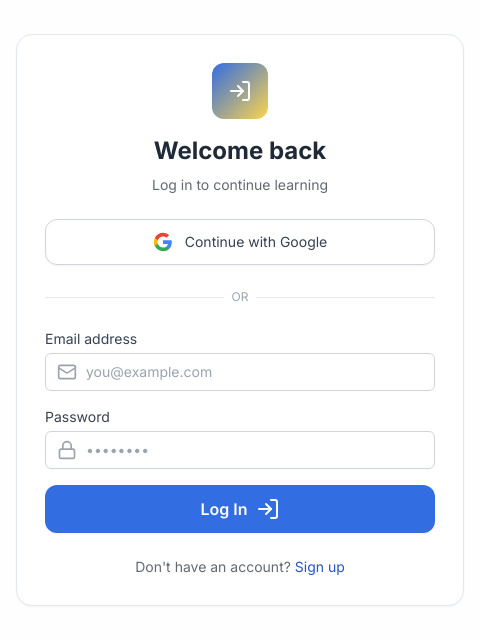
Test: Login.tsx › shows inline error below password and does not toast on invalid credentials
Type "a@b.com" into the field labelled "Email address" at (240, 372), box [45, 353, 435, 391]
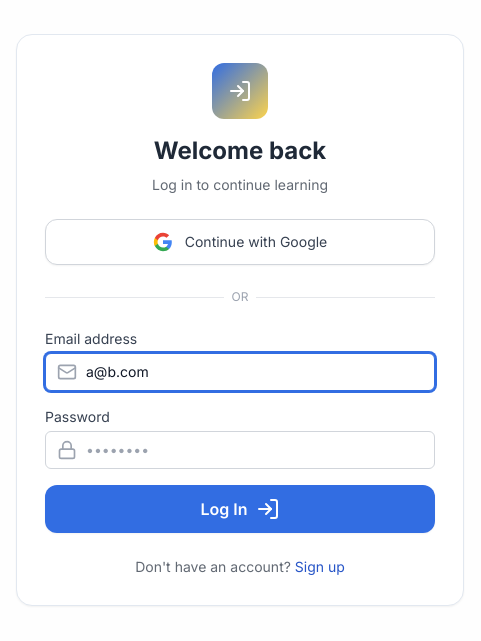
Type "Secure1!" into the password field labelled "Password" at (240, 450), box [45, 431, 435, 469]
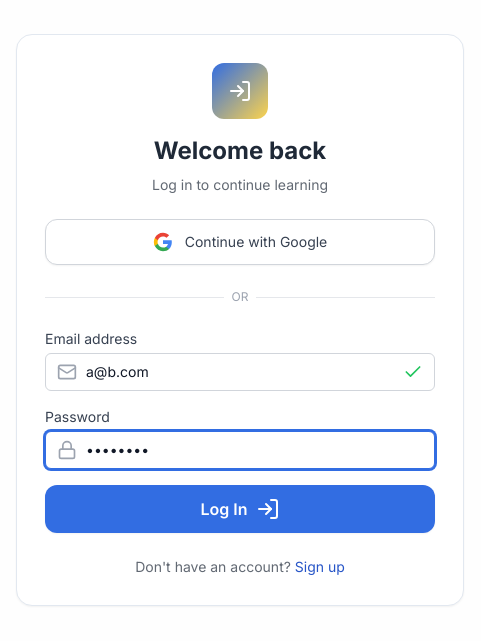
Click the button "Log In" at (240, 509), box [45, 485, 435, 533]
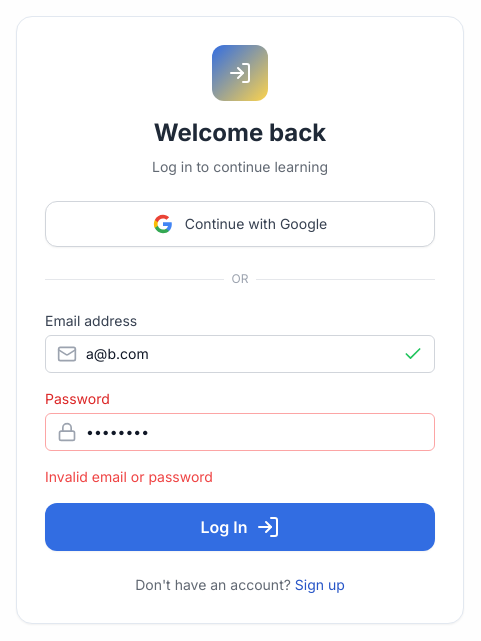
expect the text "Invalid email or password" is shown: met, box [45, 468, 213, 485]
